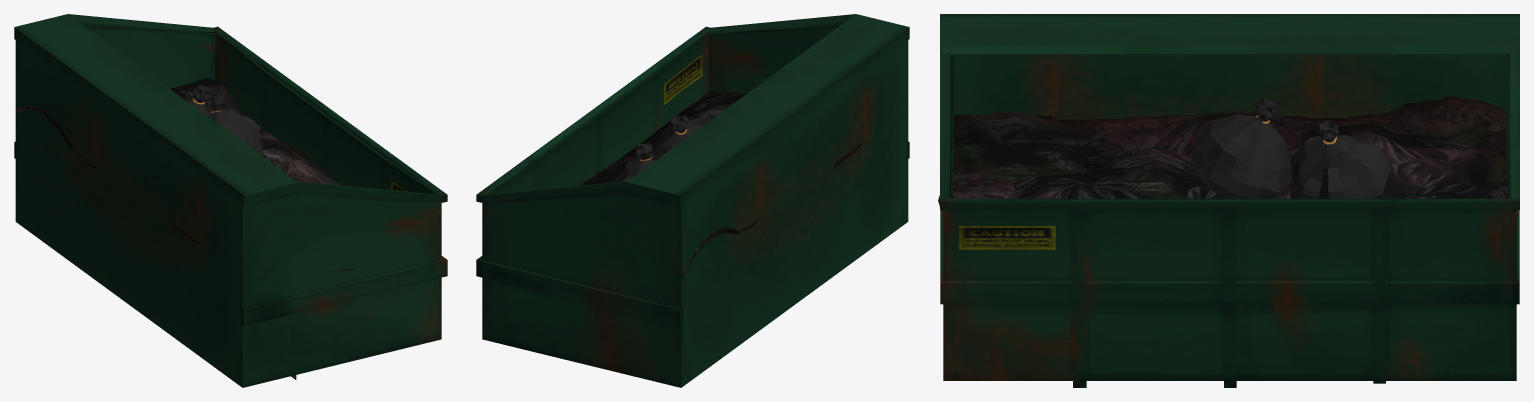
File: motaBin.fbx
3 views of the same model, side by side, from view 1: azimuth 30°, elevation 25°; view 2: azimuth 150°, elevation 25°; view 3: azimuth 270°, elevation 25° (orthographic). The views are drawn at different scales.
Parts seen in each view (by area): view 1: Cube, Plane, Trash1, Trash2; view 2: Cube, Plane, Trash1, Trash2; view 3: Cube, Plane, Trash1, Trash2.
Boxes of the visible parts, bbox=[...] form: Cube: bbox=[14, 14, 447, 387]; Plane: bbox=[15, 78, 362, 272]; Trash1: bbox=[205, 95, 264, 157]; Trash2: bbox=[187, 85, 209, 115]; Cube: bbox=[476, 14, 909, 387]; Plane: bbox=[580, 91, 864, 277]; Trash1: bbox=[652, 115, 704, 160]; Trash2: bbox=[622, 143, 655, 181]; Cube: bbox=[940, 14, 1519, 387]; Plane: bbox=[938, 96, 1507, 218]; Trash1: bbox=[1191, 99, 1292, 198]; Trash2: bbox=[1288, 120, 1391, 198].
Size of the model in its own units: 77.03 by 71.73 by 150.
